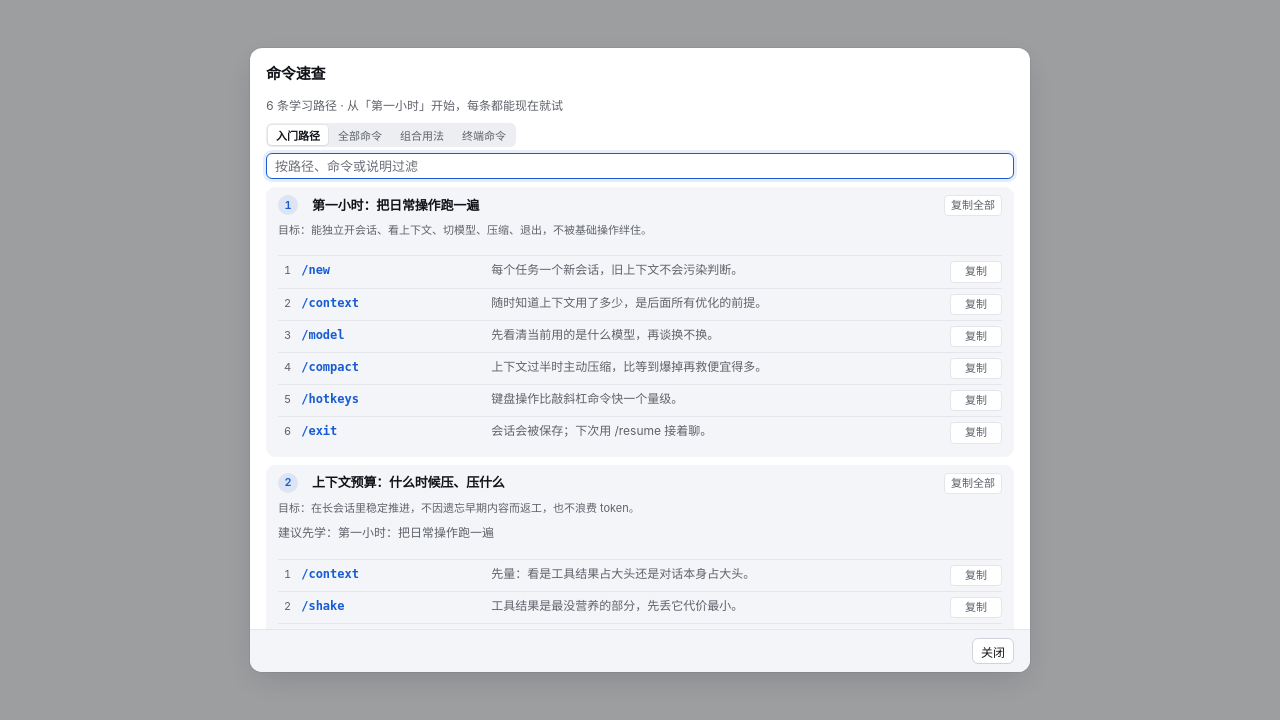
Test case: 终端命令 › 终端命令页列出子命令、示例，并可复制
Click the tab "终端命令": (484, 135) [454,125,514,145]
(page scrolled)
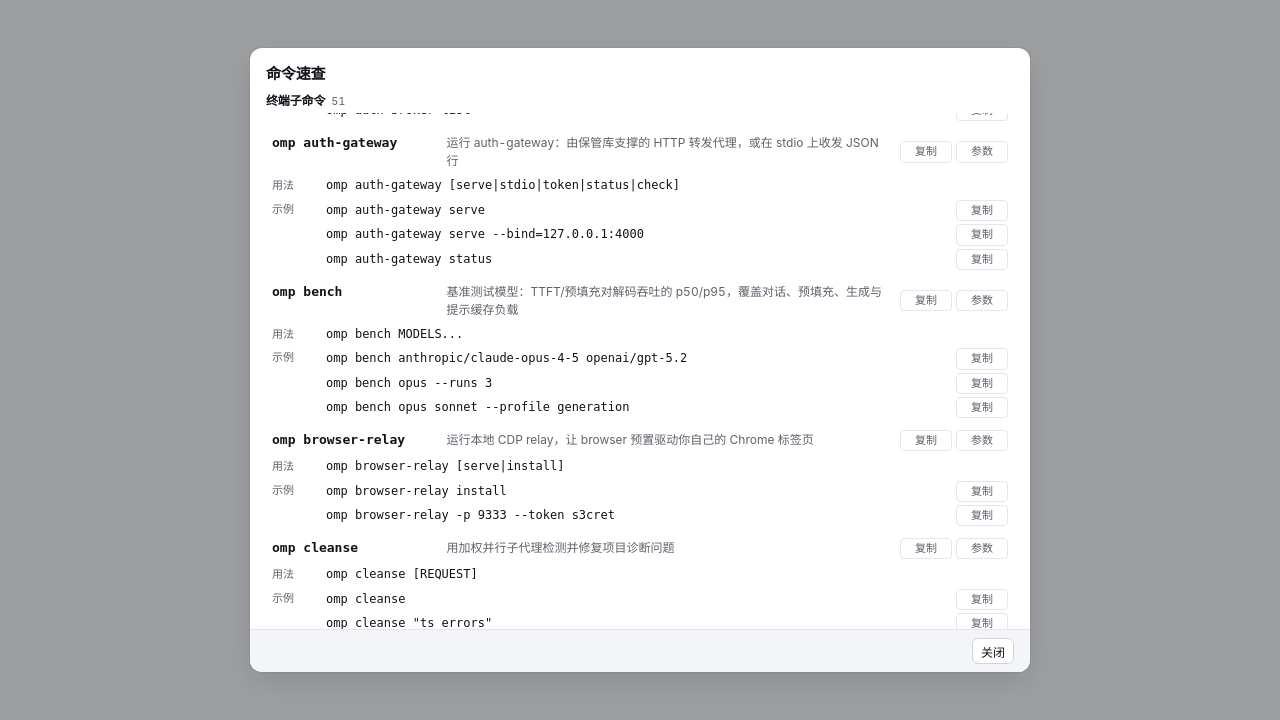
Now the button with aria-label "复制 omp bench" is shown, box [900,290,952,311]
Click the 6th button "复制": (982, 359) [956,348,1008,370]
(page scrolled)
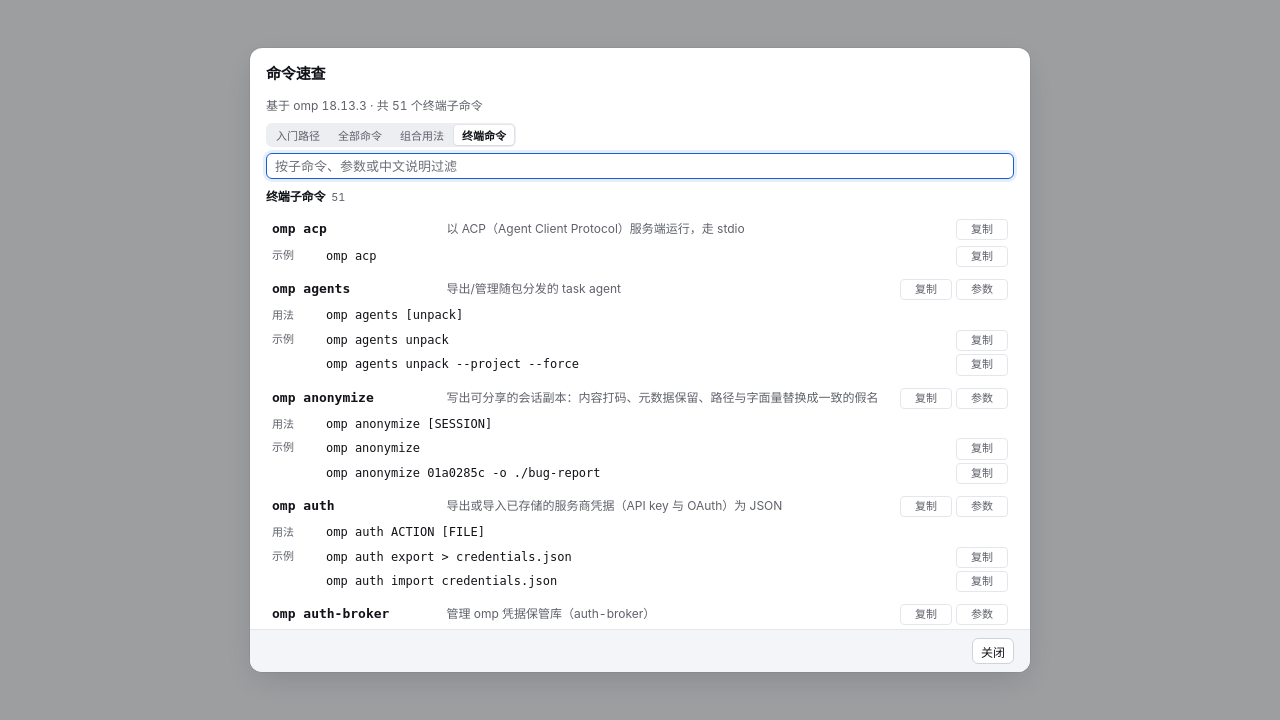
In the search field named "过滤命令": (640, 166) [266,153,1014,179], type "worktree"
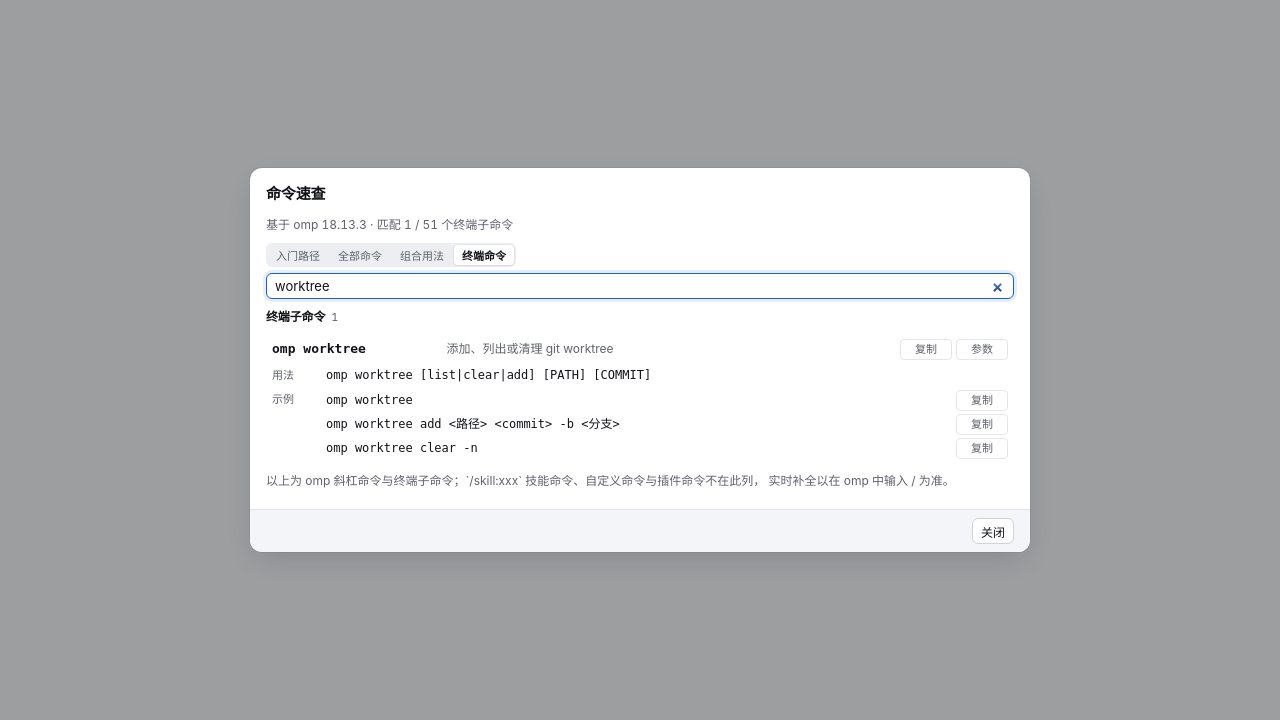
Expected: the list "复制 omp bench" is not shown
Now the button with aria-label "复制 omp worktree" is shown, box [900,339,952,360]
Replace the text in the search field named "过滤命令" with "不存在的子命令xyz": (640, 286) [266,273,1014,299]
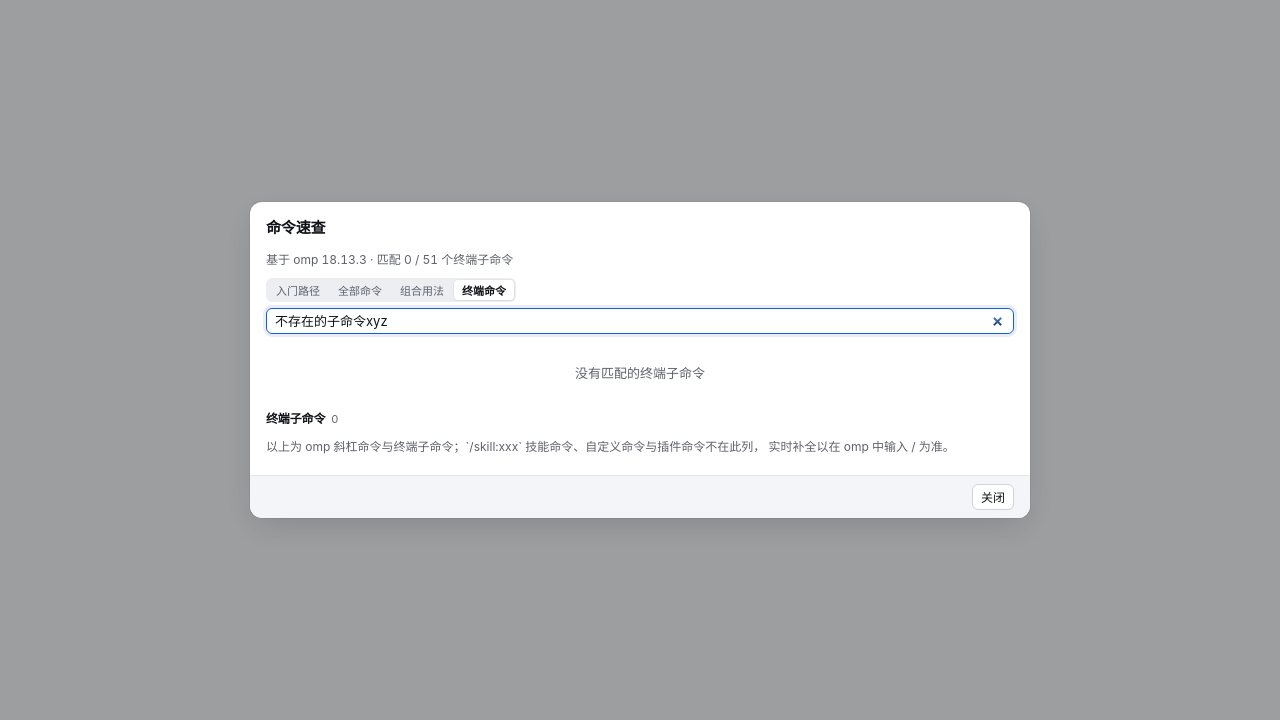
Now the text "没有匹配的终端子命令" is shown, box [575,365,705,381]
